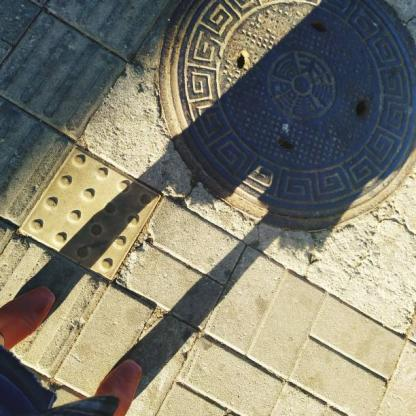manholes: (132, 0, 416, 246)
